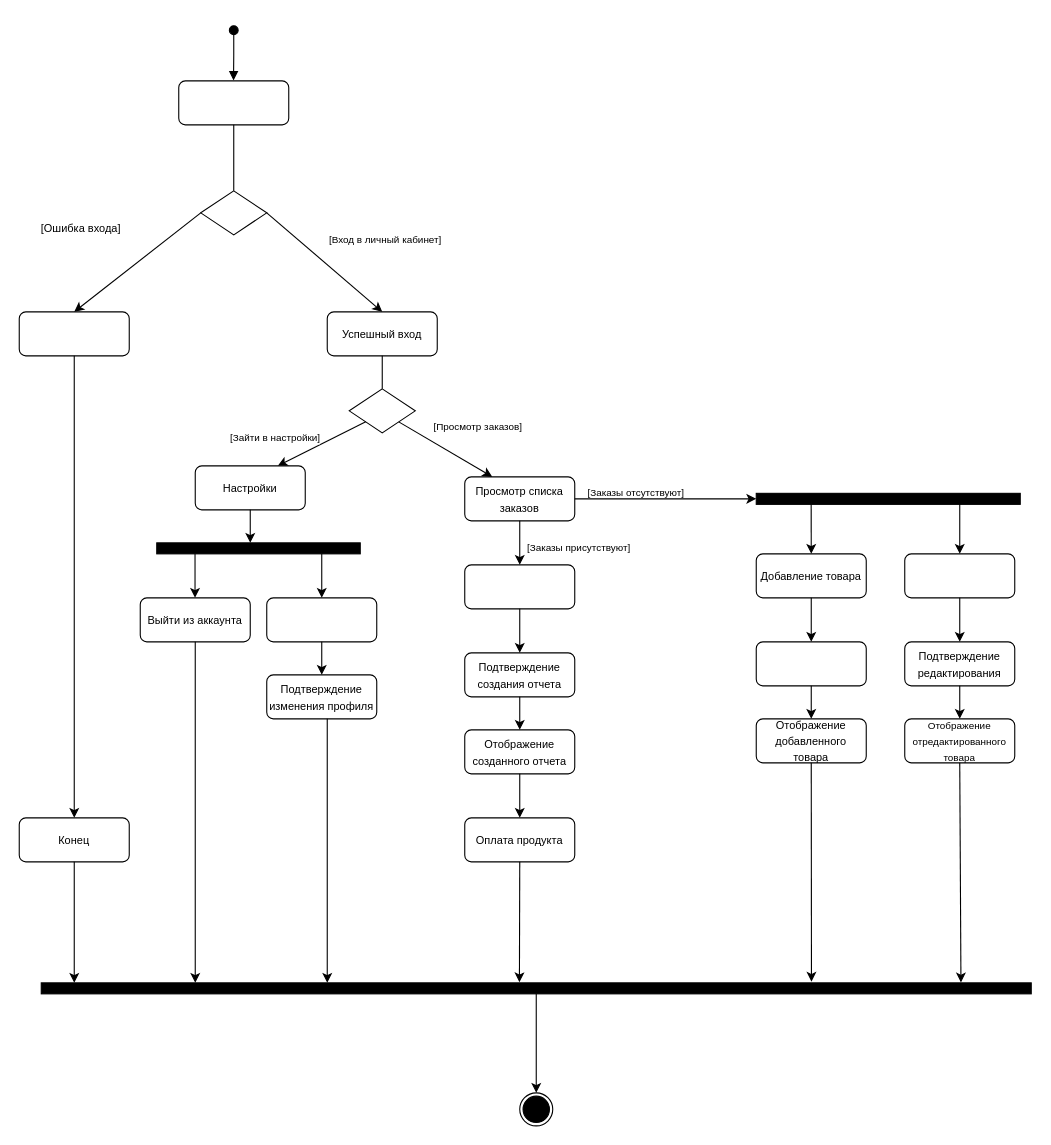
Some shapes in this 1051 by 1145 pixel diagram are drawn without their labels. The box of each missing label's shape, as (x1, y1, x2, y2) in pixels:
Вход в личный кабинет: (178, 80, 289, 125)
Изменение профиля: (266, 597, 377, 642)
Ошибка: (18, 311, 129, 356)
Подтверждение добавления: (755, 641, 866, 686)
Редактирование товара: (904, 553, 1015, 598)
Создание отчета: (464, 564, 575, 609)
